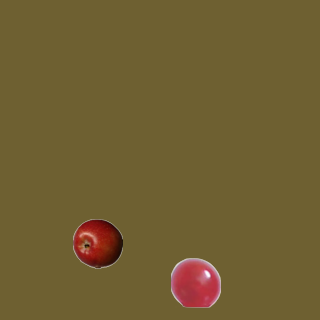Apple Braeburn: (72, 218, 122, 268)
Redcurrant: (170, 257, 220, 307)
